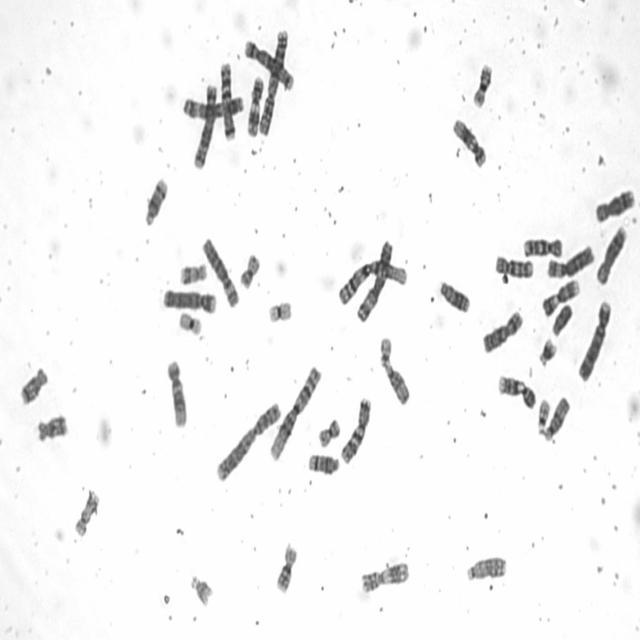A1: (268, 361, 323, 462), (335, 254, 409, 307)
A2: (214, 398, 283, 483), (257, 25, 289, 138)
A3: (354, 240, 395, 324), (180, 91, 245, 121)
B4: (576, 296, 614, 384), (163, 285, 218, 315)
B5: (242, 36, 295, 94), (193, 80, 219, 171)
C10: (493, 252, 534, 280), (521, 234, 563, 260)
C11: (358, 558, 412, 595), (244, 73, 266, 138)
C12: (450, 115, 487, 170), (164, 355, 189, 430)
C6: (200, 234, 240, 310), (544, 240, 596, 280)
C7: (338, 394, 372, 466), (218, 58, 236, 141)
C8: (594, 222, 628, 286), (593, 185, 636, 224)
C9: (540, 275, 581, 319), (496, 372, 537, 410)
D13: (436, 277, 471, 314), (465, 552, 506, 583)
D14: (142, 174, 170, 228), (306, 450, 340, 477)
D15: (542, 392, 572, 442), (383, 360, 410, 405)
E16: (273, 540, 299, 596), (470, 59, 494, 109)
E17: (72, 486, 101, 538), (178, 260, 208, 286)
E18: (17, 364, 49, 407), (34, 410, 70, 443)
F19: (176, 308, 204, 336), (266, 298, 293, 325)
F20: (237, 250, 262, 290), (316, 415, 342, 449)
G21: (187, 570, 214, 608), (537, 334, 558, 368)
G22: (536, 394, 551, 435), (378, 333, 393, 367)
X: (480, 306, 525, 356)
Y: (549, 300, 574, 338)
